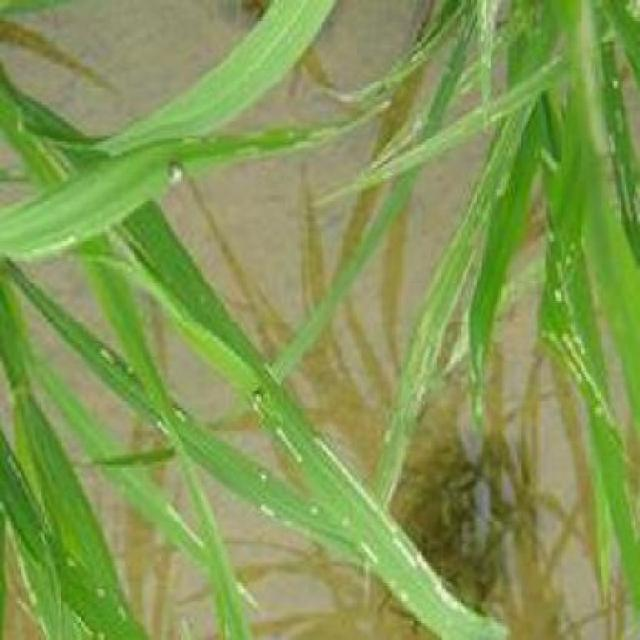rice-bug: (250, 382, 273, 412), (165, 153, 186, 184)
